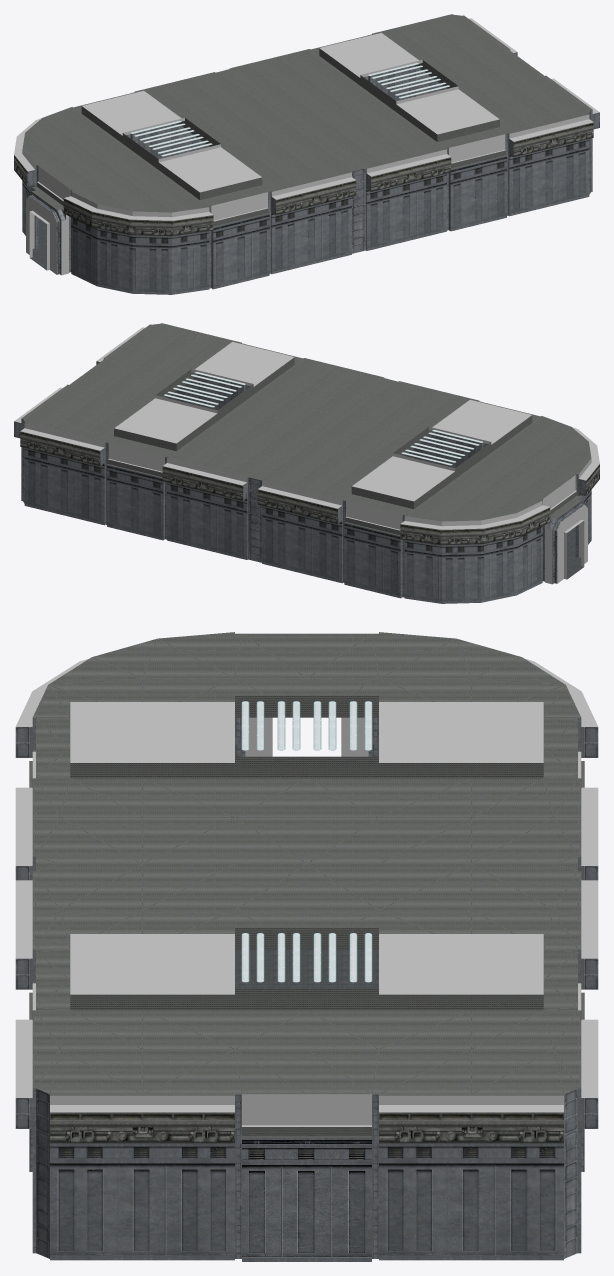
The model's file is poi_all_impl_bunker_warren_s01_r83_smallroom83_mesh_r83.fbx.
The picture shows the model from 3 angles, top to bottom: view 1: azimuth 30°, elevation 25°; view 2: azimuth 150°, elevation 25°; view 3: azimuth 270°, elevation 25°; orthographic projection. The views are drawn at different scales.
Visible parts, largest first — view 1: mesh_node; view 2: mesh_node; view 3: mesh_node.
Boxes of the visible parts, bbox=[...] form: mesh_node: bbox=[14, 14, 599, 294]; mesh_node: bbox=[14, 323, 599, 603]; mesh_node: bbox=[15, 632, 598, 1261].
Bounding box in the file's own units: 33.5 × 6 × 17.
